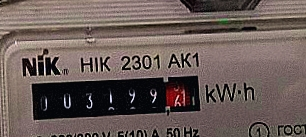0: (61, 91, 72, 110), (38, 93, 47, 111)
1: (104, 87, 114, 105)
3: (83, 90, 93, 111)
6: (171, 92, 181, 107)
9: (125, 85, 136, 105), (147, 86, 158, 104)
screen: (23, 66, 207, 127)
